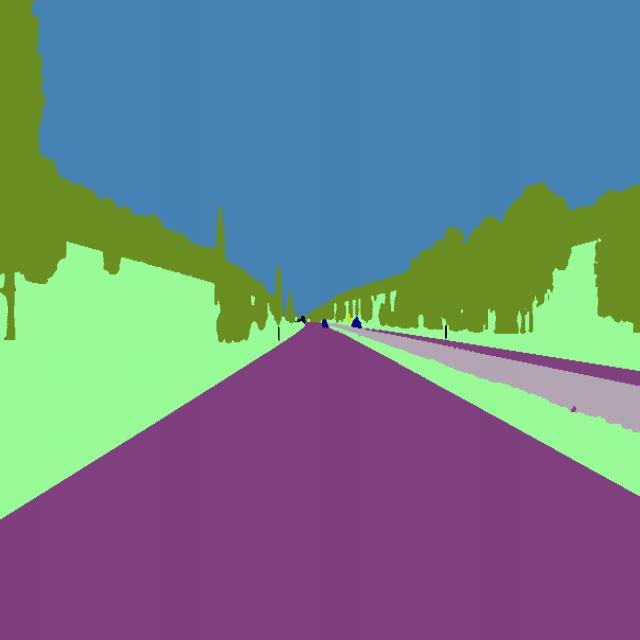safe: (351, 312, 364, 333), (320, 317, 330, 332)
